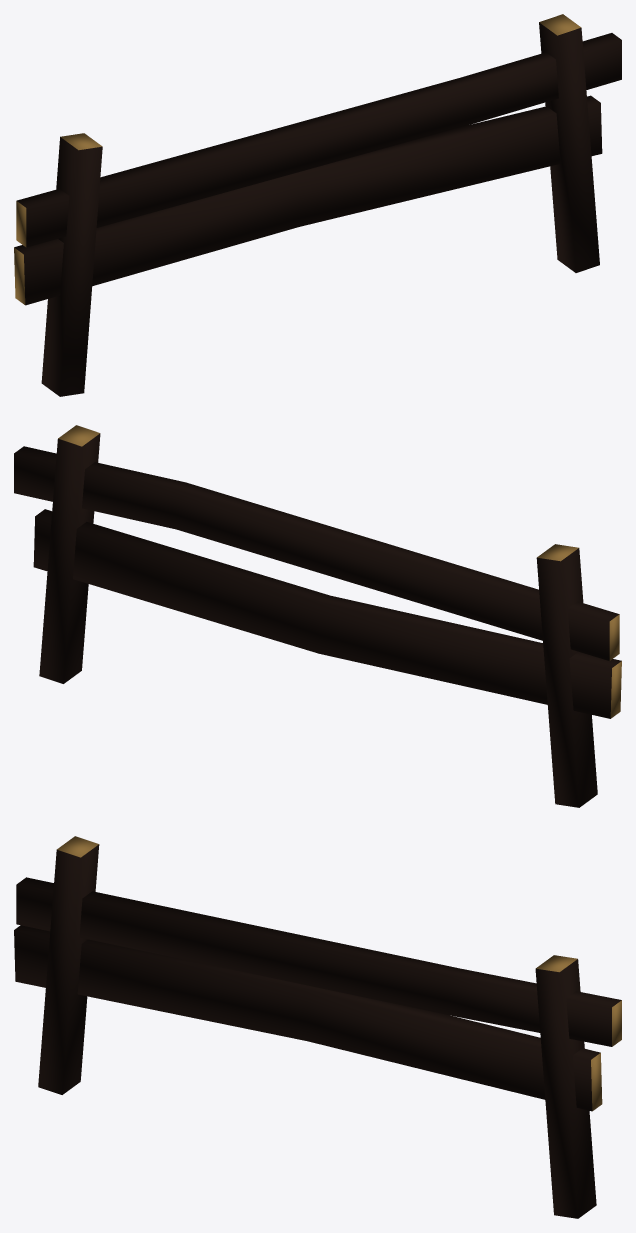
File: Paling_a.FBX
3 renders of one model, top to bottom at view 1: azimuth 30°, elevation 25°; view 2: azimuth 150°, elevation 25°; view 3: azimuth 330°, elevation 25°, orthographic.
Parts seen in each view (by area): view 1: Paling01_a; view 2: Paling01_a; view 3: Paling01_a.
Part boxes in pixels (<box>): Paling01_a: <box>14,14,621,396</box>; Paling01_a: <box>14,425,621,807</box>; Paling01_a: <box>14,836,621,1218</box>.
Bounding box in the file's own units: 222 × 86.63 × 16.02.
